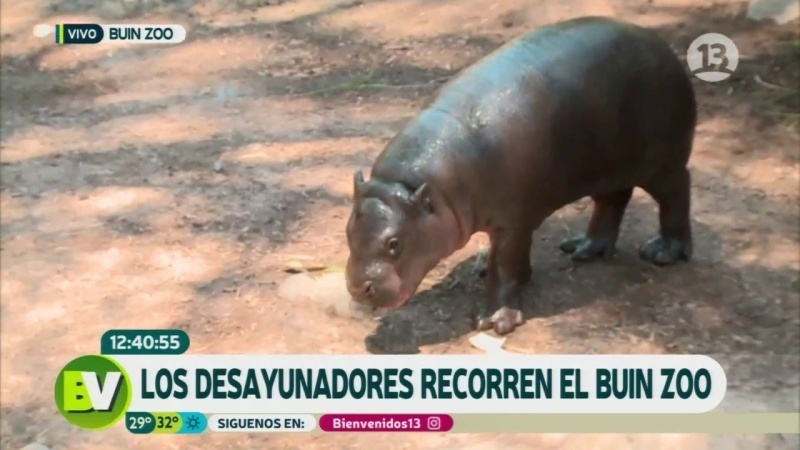hipopotamo: (328, 9, 710, 346)
